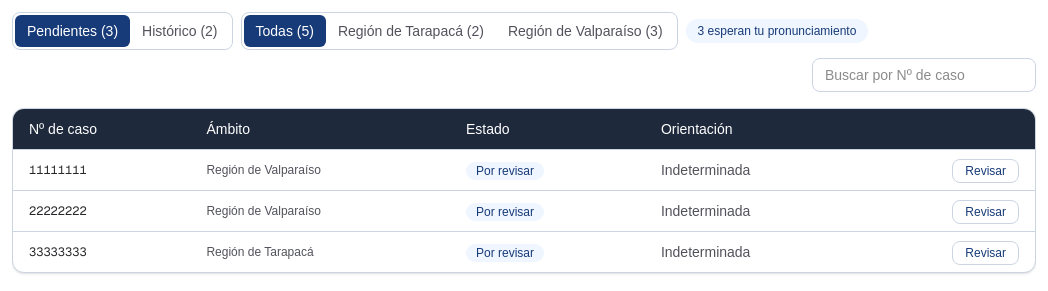
bandeja global de un médico con dos ámbitos › la pestaña de cada ámbito filtra, y sus cuentas salen de SUS casos
Expected: the button "Pendientes (3)" is shown, [15,15,130,47]
Expected: the button "Región de Valparaíso (3)" is shown, [496,15,675,47]
What coordinates should you click on to do the following:
click the button "Región de Tarapacá (2)"
I would click on:
 (411, 31)
Its box is [326,15,496,47].
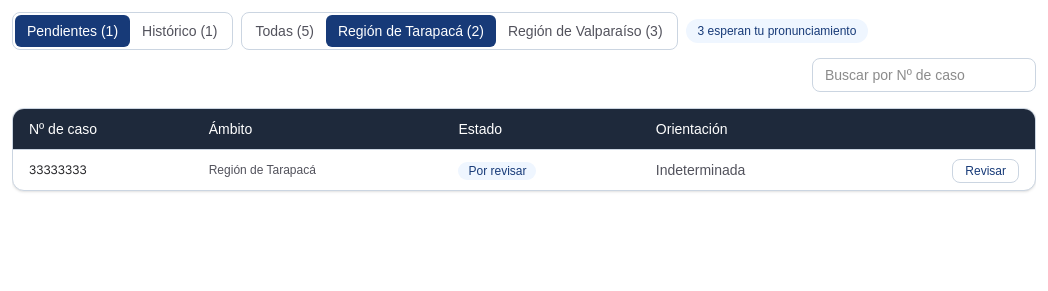
Expected: the text "33333333" is shown, [13,150,193,190]
Result: the text "11111111" is gone
